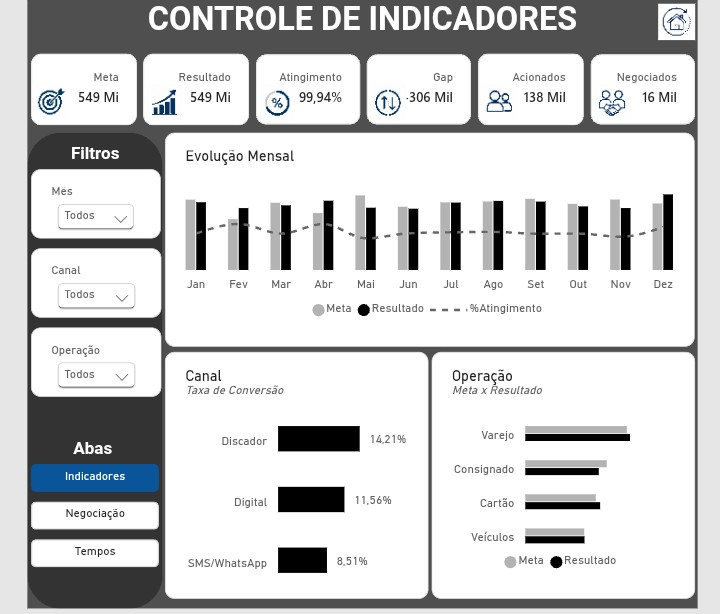

Layout of this report page (visuals, bound fields, positions):
{"tool":"powerbi","page":{"name":"Indicadores","canvas":[550,500],"ordinal":1},"visuals":[{"type":"shape","box":[0,109,111,391],"z":0},{"type":"textbox","box":[0,0,550,46],"z":1000},{"type":"cardVisual","fields":{"Data":["Metricas.Meta"]},"box":[3,44,87,59],"z":1000,"group":"g1"},{"type":"lineClusteredColumnComboChart","title":"Evolução Mensal","fields":{"Category":["base_recuperacao_credito_detalhada_2025.Mes Abreviado"],"Y":["Metricas.Meta","Metricas.Resultado"],"Y2":["Metricas.%Variação"]},"box":[113,109,435,176],"z":2000},{"type":"cardVisual","fields":{"Data":["Metricas.Resultado"]},"box":[94.8,44,87,59],"z":3000,"group":"g2"},{"type":"pageNavigator","box":[3,381,105,87],"z":3000},{"type":"cardVisual","fields":{"Data":["Metricas.Clientes Acionados"]},"box":[370.2,44,87,59],"z":4000,"group":"g5"},{"type":"clusteredBarChart","title":"Canal","fields":{"Category":["base_recuperacao_credito_detalhada_2025.Canal"],"Y":["Metricas.%Taxa de Conversão"]},"box":[113,289,216,203],"z":4000},{"type":"cardVisual","fields":{"Data":["Metricas.Cliente Negociados"]},"box":[462,44,87,59],"z":5000,"group":"g4"},{"type":"clusteredBarChart","title":"Operação","fields":{"Y":["Metricas.Meta","Metricas.Resultado"],"Category":["base_recuperacao_credito_detalhada_2025.Operacao"]},"box":[332,289,216,203],"z":5000},{"type":"textbox","box":[0,358,107,20],"z":6000},{"type":"slicer","title":"Mês","fields":{"Values":["base_recuperacao_credito_detalhada_2025.Mes Abreviado"]},"box":[2.8,139,106,57],"z":7000},{"type":"slicer","title":"Canal","fields":{"Values":["base_recuperacao_credito_detalhada_2025.Canal"]},"box":[3,204,107,57],"z":8000},{"type":"slicer","title":"Operação","fields":{"Values":["base_recuperacao_credito_detalhada_2025.Operacao"]},"box":[3,269,107,57],"z":9000},{"type":"image","box":[4,66,30,35],"z":10000,"group":"g1"},{"type":"textbox","box":[7,116,97,23],"z":10000},{"type":"group","id":"g1","title":"Grupo 1","box":[3,44,87,59],"z":11000},{"type":"image","box":[372.2,66,30,35],"z":11000,"group":"g5"},{"type":"group","id":"g2","title":"Grupo 2","box":[94.8,44,87,59],"z":12000},{"type":"image","box":[465,67,30,35],"z":12000,"group":"g4"},{"type":"group","id":"g3","title":"Grupo 3","box":[186.6,44,87,59],"z":13000},{"type":"group","id":"g4","title":"Grupo 4","box":[462,44,87,59],"z":14000},{"type":"group","id":"g5","title":"Grupo 5","box":[370.2,44,87,59],"z":15000},{"type":"group","id":"g6","title":"Grupo 3","box":[278.4,44,87,59],"z":16000},{"type":"image","box":[518,2,30,32],"z":17000},{"type":"image","box":[96.8,67,30,35],"z":18000,"group":"g2"},{"type":"cardVisual","fields":{"Data":["Metricas.%Variação"]},"box":[186.6,44,87,59],"z":19000,"group":"g3"},{"type":"cardVisual","fields":{"Data":["Metricas.Gap"]},"box":[278.4,44,87,59],"z":19000,"group":"g6"},{"type":"image","box":[189.6,67,30,35],"z":20000,"group":"g3"},{"type":"image","box":[281.4,67,30,35],"z":20000,"group":"g6"}]}

Visuals, with their boxes on the page's 550x500 design canvas (x1, y1, x2, y2). These are canvas units, not pixel positions in the 720x614 screenshot, which may show the page scaled, cropped or inside an application window:
shape: box=[0, 109, 111, 500]
textbox: box=[0, 0, 550, 46]
cardVisual - Metricas.Meta: box=[3, 44, 90, 103]
"Evolução Mensal" lineClusteredColumnComboChart: box=[113, 109, 548, 285]
cardVisual - Metricas.Resultado: box=[95, 44, 182, 103]
pageNavigator: box=[3, 381, 108, 468]
cardVisual - Metricas.Clientes Acionados: box=[370, 44, 457, 103]
"Canal" clusteredBarChart: box=[113, 289, 329, 492]
cardVisual - Metricas.Cliente Negociados: box=[462, 44, 549, 103]
"Operação" clusteredBarChart: box=[332, 289, 548, 492]
textbox: box=[0, 358, 107, 378]
"Mês" slicer: box=[3, 139, 109, 196]
"Canal" slicer: box=[3, 204, 110, 261]
"Operação" slicer: box=[3, 269, 110, 326]
image: box=[4, 66, 34, 101]
textbox: box=[7, 116, 104, 139]
"Grupo 1" group: box=[3, 44, 90, 103]
image: box=[372, 66, 402, 101]
"Grupo 2" group: box=[95, 44, 182, 103]
image: box=[465, 67, 495, 102]
"Grupo 3" group: box=[187, 44, 274, 103]
"Grupo 4" group: box=[462, 44, 549, 103]
"Grupo 5" group: box=[370, 44, 457, 103]
"Grupo 3" group: box=[278, 44, 365, 103]
image: box=[518, 2, 548, 34]
image: box=[97, 67, 127, 102]
cardVisual - Metricas.%Variação: box=[187, 44, 274, 103]
cardVisual - Metricas.Gap: box=[278, 44, 365, 103]
image: box=[190, 67, 220, 102]
image: box=[281, 67, 311, 102]
